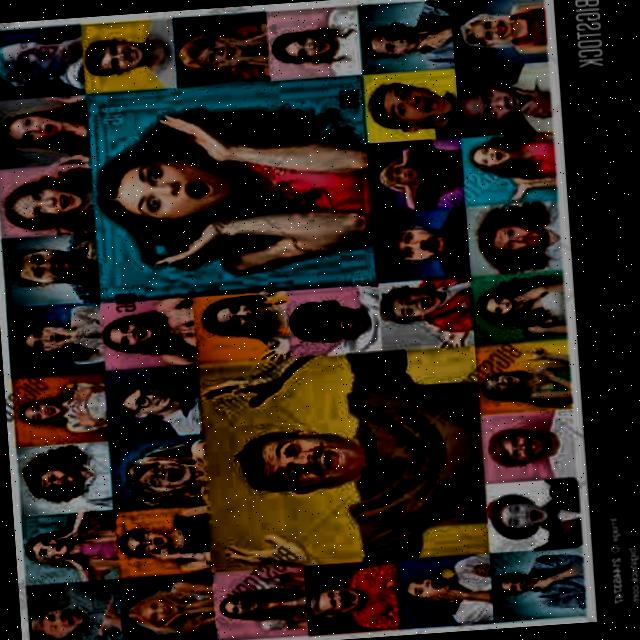happy: (475, 410, 585, 481), (0, 24, 84, 94)
surprised: (86, 80, 372, 302), (235, 421, 372, 511), (363, 66, 478, 143), (10, 429, 113, 514), (363, 138, 460, 219), (207, 563, 307, 640), (484, 476, 585, 552), (302, 559, 400, 637), (474, 341, 576, 414), (78, 13, 169, 94), (192, 285, 290, 360), (23, 512, 120, 587), (462, 128, 556, 204), (9, 304, 109, 375), (108, 439, 210, 507), (172, 12, 266, 85), (5, 237, 102, 307), (12, 374, 105, 447), (495, 549, 588, 621), (477, 272, 570, 344), (402, 555, 493, 628), (0, 163, 94, 233), (462, 58, 552, 131), (289, 281, 377, 354), (105, 370, 198, 439), (118, 574, 212, 640), (0, 96, 89, 163), (102, 299, 195, 363), (368, 212, 458, 278), (475, 201, 557, 273), (267, 9, 355, 76), (385, 276, 470, 342), (118, 508, 206, 569), (20, 593, 121, 640)
